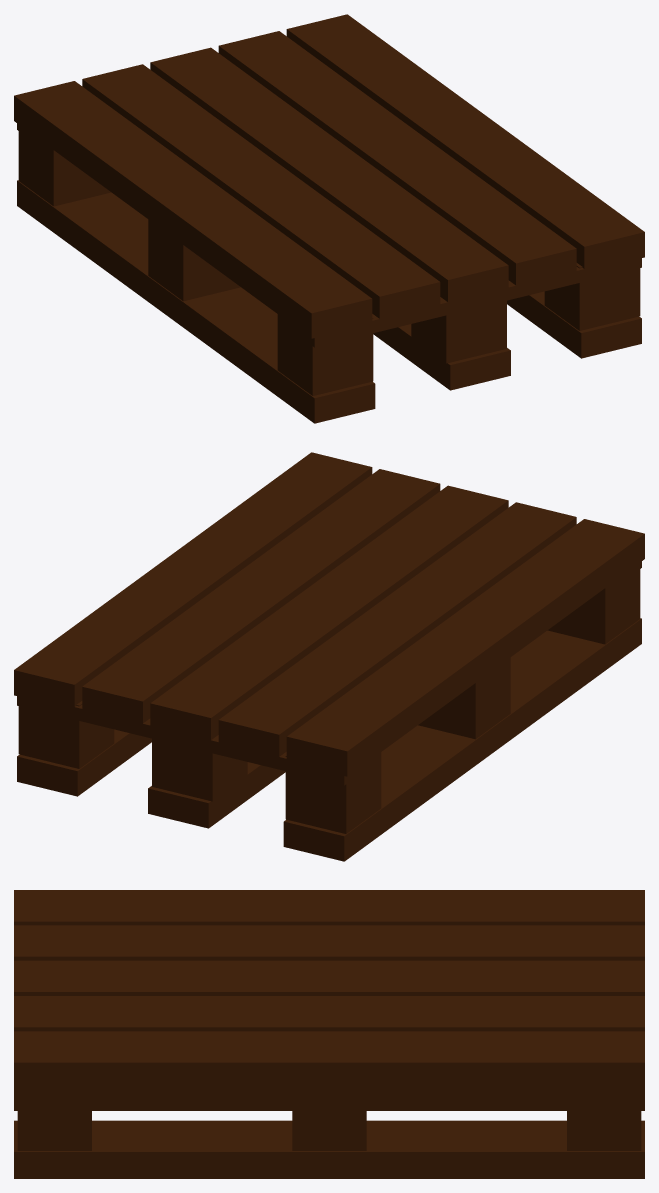
File: palette.obj
3 renders of one model, top to bottom at view 1: azimuth 30°, elevation 25°; view 2: azimuth 150°, elevation 25°; view 3: azimuth 270°, elevation 25°, orthographic. The views are drawn at different scales.
Visible parts, largest first — view 1: Cube.018; view 2: Cube.018; view 3: Cube.018.
Boxes of the visible parts, bbox=[...] form: Cube.018: bbox=[14, 14, 644, 423]; Cube.018: bbox=[14, 452, 644, 861]; Cube.018: bbox=[14, 890, 644, 1178].
Bounding box in the file's own units: 11 × 3.5 × 17.
